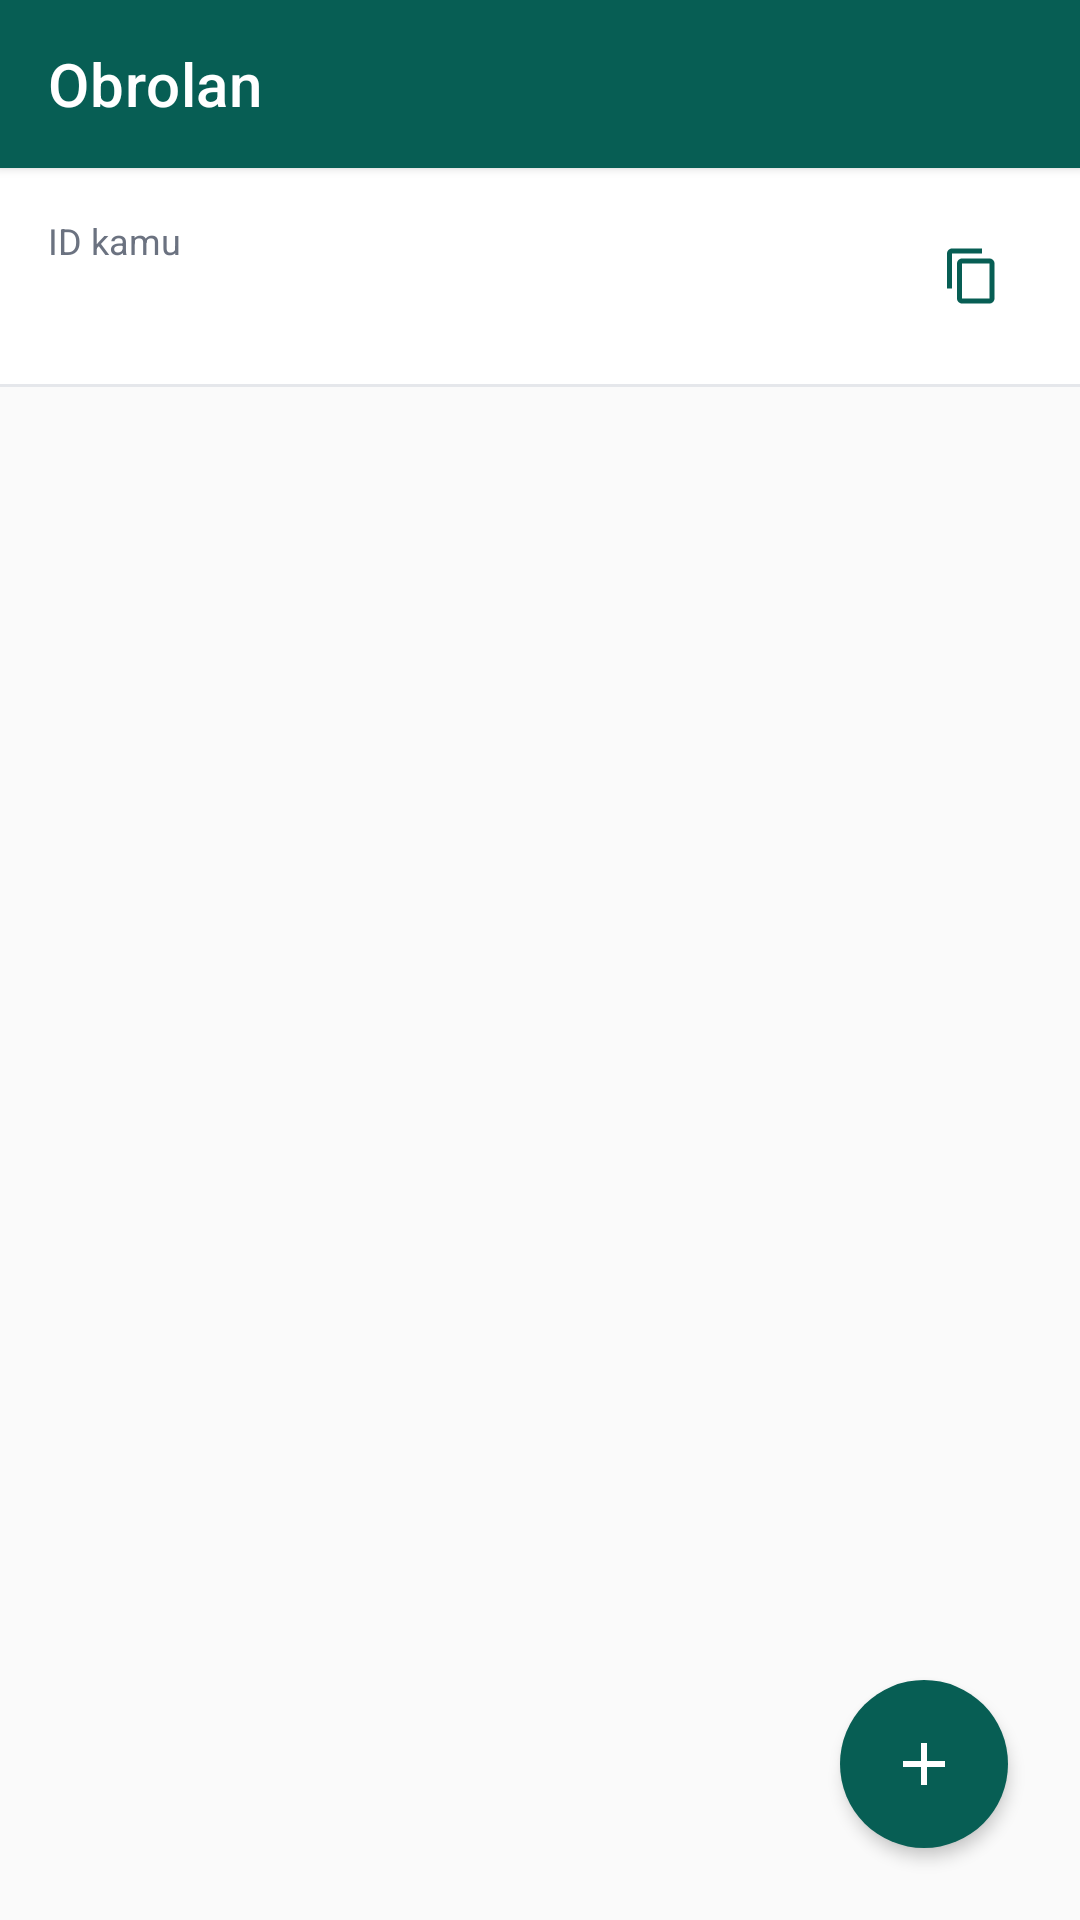

Screen size 1080×1920. Icon name, then its box in pixels as rect(x1, y1, x2, y2):
add: rect(840, 1680, 1008, 1848)
Salin: rect(947, 248, 995, 304)
